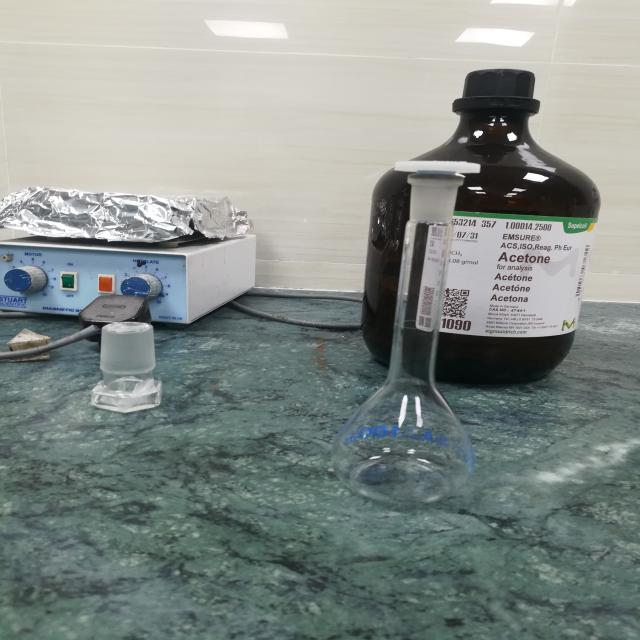Volumetric_Flask: (304, 118, 521, 518)
